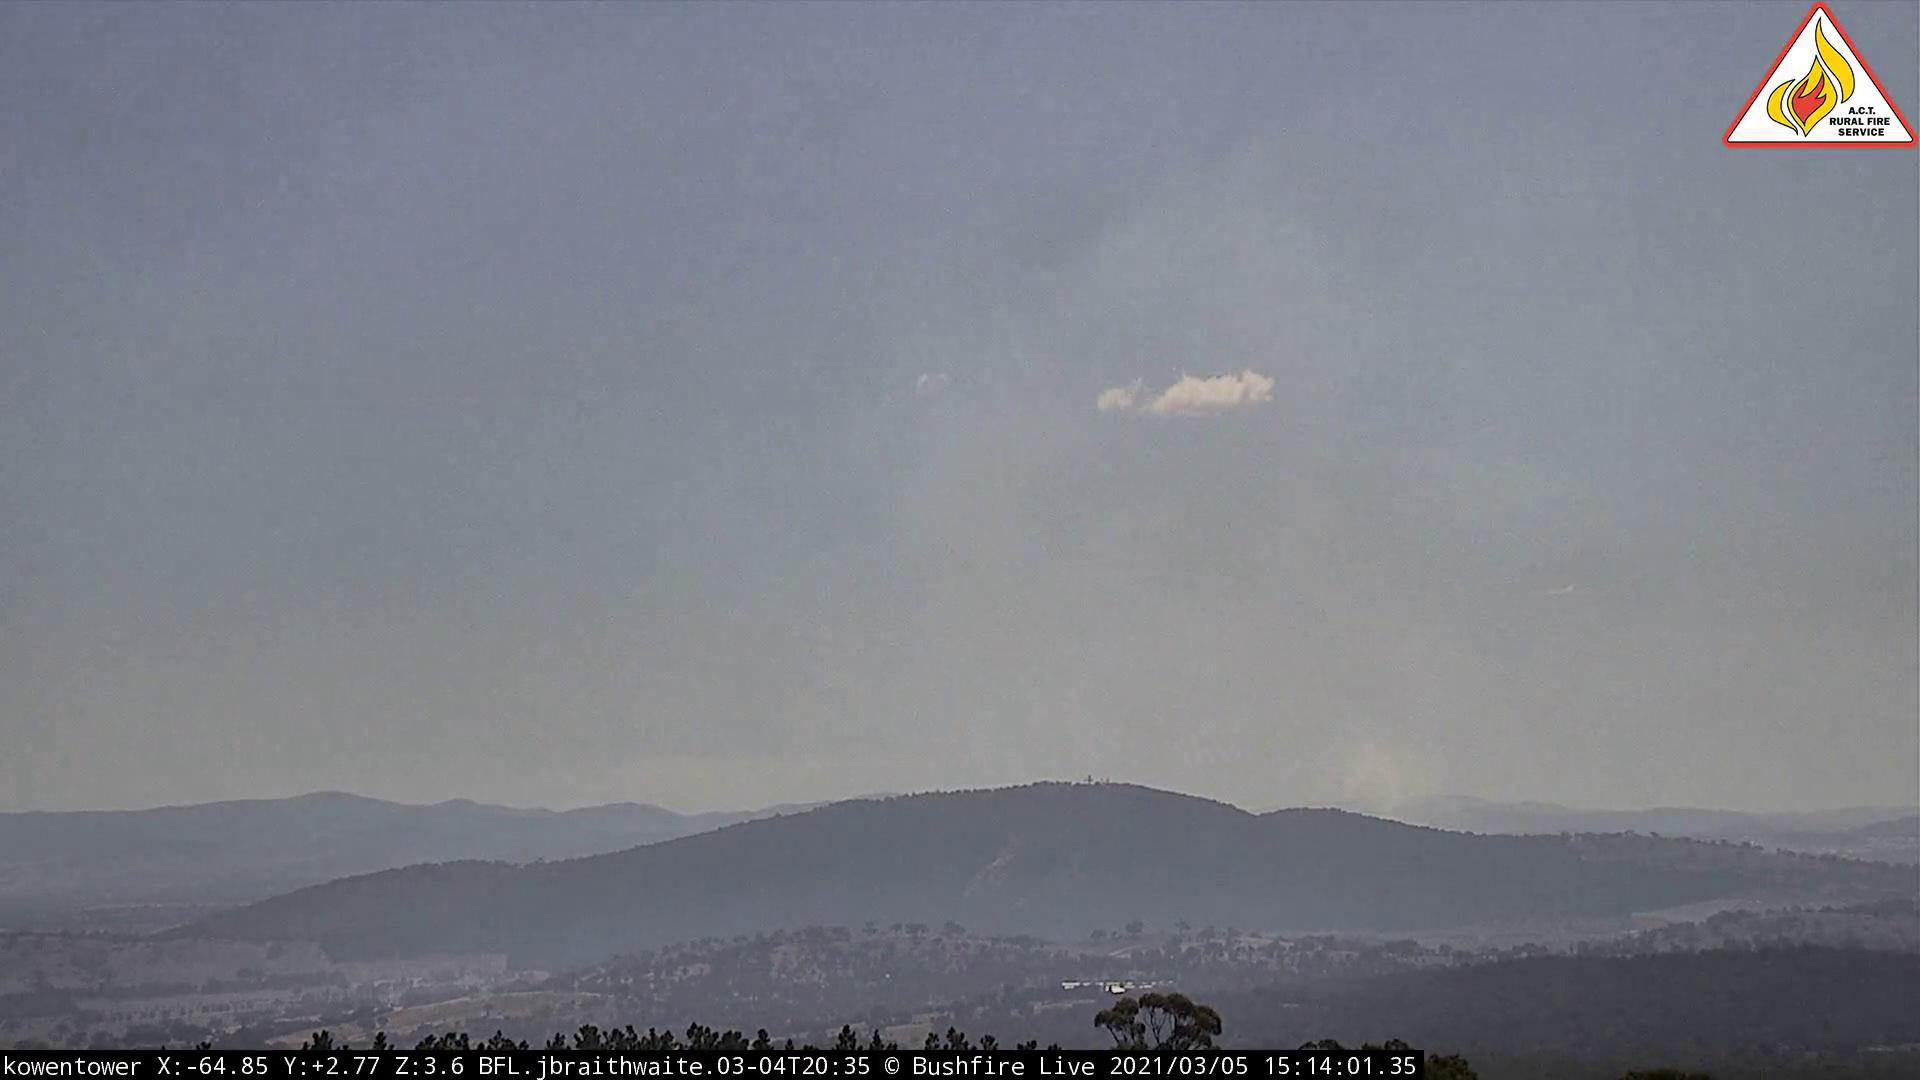Smoke: (848, 303, 1449, 829)
